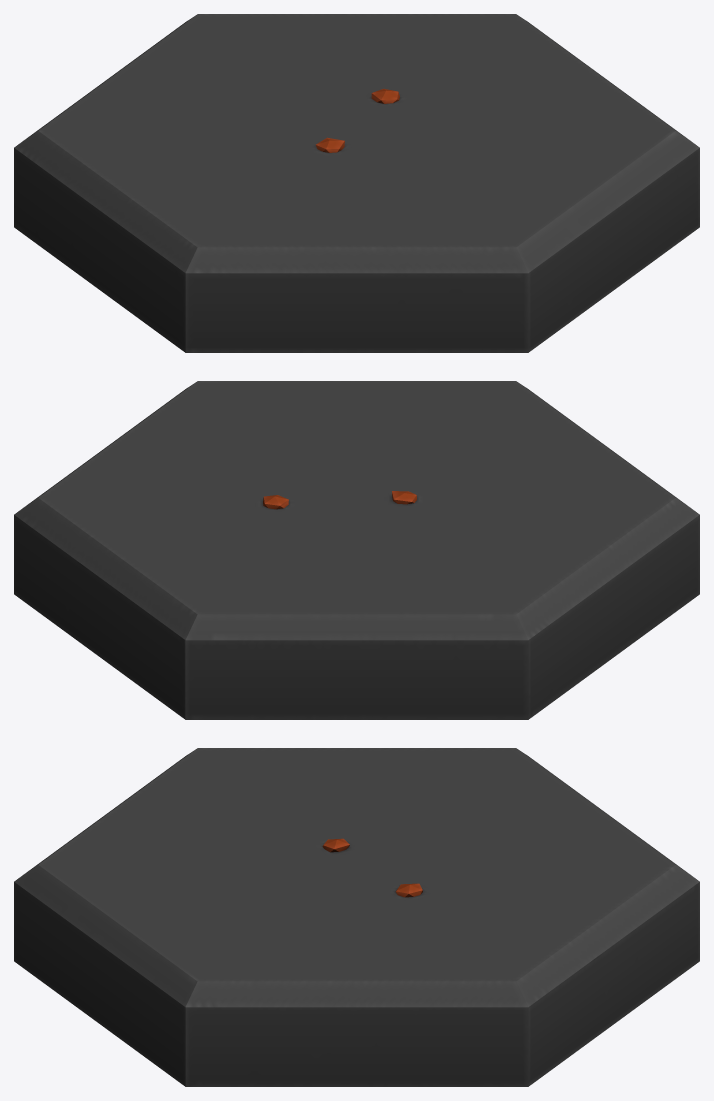
Rendered from tile_hex_ash_b.glb.
3 views of the same model, one above another, from view 1: azimuth 30°, elevation 25°; view 2: azimuth 150°, elevation 25°; view 3: azimuth 270°, elevation 25° (orthographic).
Visible parts, largest first — view 1: tile_hex_ash_b; view 2: tile_hex_ash_b; view 3: tile_hex_ash_b.
Part boxes in pixels (left/top/right/bottom): tile_hex_ash_b: left=14, top=14, right=699, bottom=352; tile_hex_ash_b: left=14, top=381, right=699, bottom=719; tile_hex_ash_b: left=14, top=748, right=699, bottom=1086.
Size of the model in its own units: 1.12 by 0.2147 by 1.29.
1 material, 1 textured.
